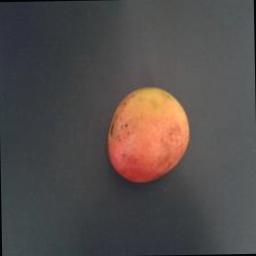Mango Unripe: (98, 83, 202, 182)
